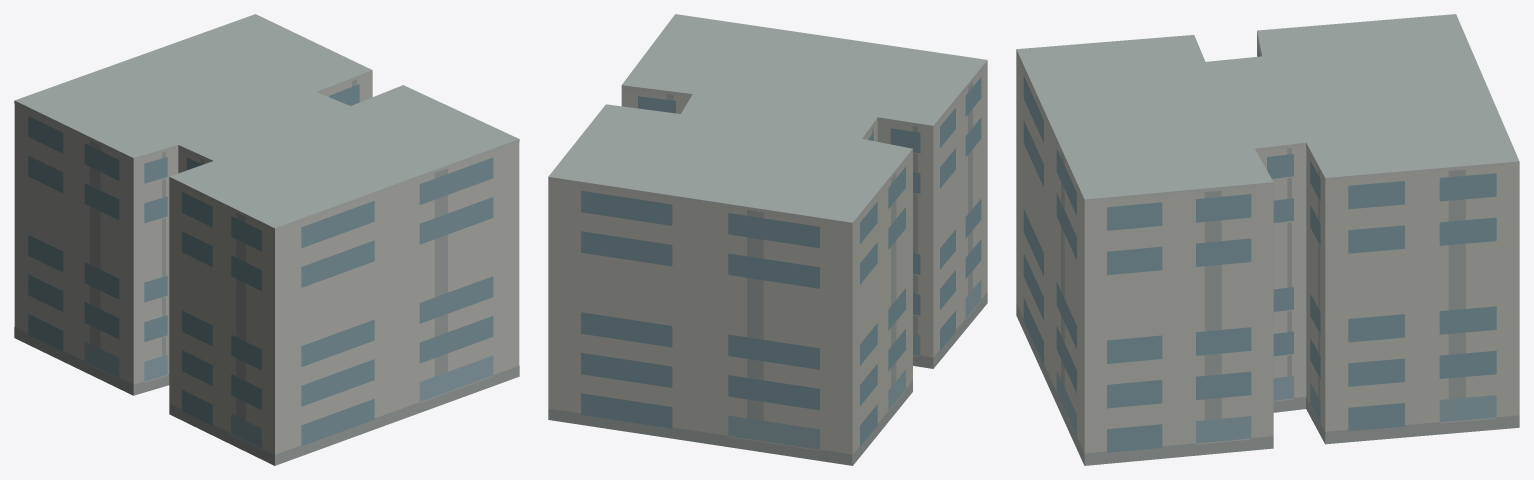
Rendered from survey-upis-32838867.glb.
The picture shows the model from 3 angles, left to right: view 1: azimuth 30°, elevation 25°; view 2: azimuth 150°, elevation 25°; view 3: azimuth 270°, elevation 25°; orthographic projection. The views are drawn at different scales.
Visible parts, largest first — view 1: survey-upis-32838867.tmp; view 2: survey-upis-32838867.tmp; view 3: survey-upis-32838867.tmp.
Part boxes in pixels (x1=…): survey-upis-32838867.tmp: x1=14, y1=14, x2=519, y2=465; survey-upis-32838867.tmp: x1=548, y1=14, x2=987, y2=465; survey-upis-32838867.tmp: x1=1016, y1=14, x2=1519, y2=465.
Size of the model in its own units: 26.98 by 18.05 by 30.91.
